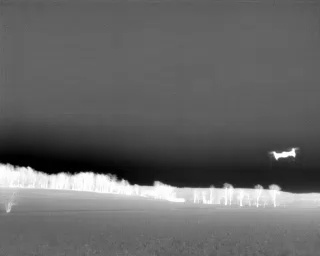DRONE: (265, 143, 303, 166)
